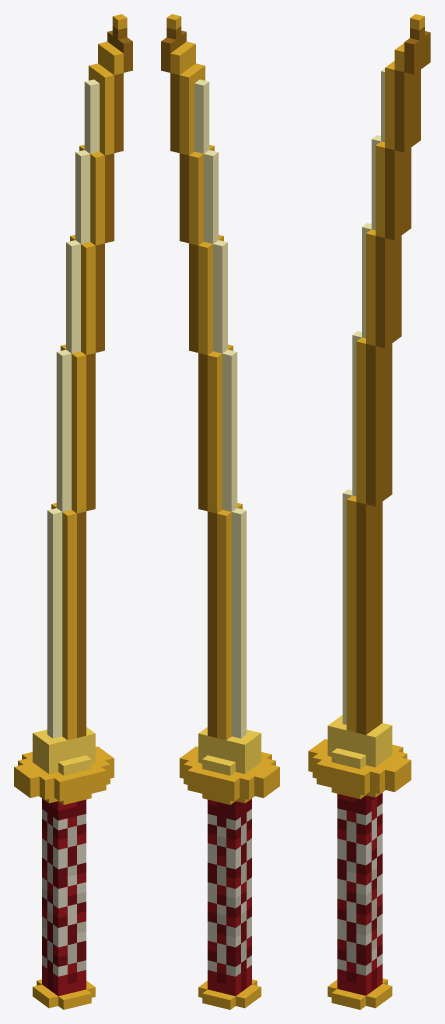
File: Katana_Gold_Voxel.glb
The picture shows the model from 3 angles, left to right: view 1: azimuth 30°, elevation 25°; view 2: azimuth 150°, elevation 25°; view 3: azimuth 330°, elevation 25°; orthographic projection. The views are drawn at different scales.
Visible parts, largest first — view 1: Katana_Gold_Voxel; view 2: Katana_Gold_Voxel; view 3: Katana_Gold_Voxel.
Boxes of the visible parts, x1,y1,x2,y2 form: Katana_Gold_Voxel: (14,14,132,1009); Katana_Gold_Voxel: (161,14,279,1009); Katana_Gold_Voxel: (308,14,430,1009).
Bounding box in the file's own units: 0.132 × 1.19 × 0.084.
